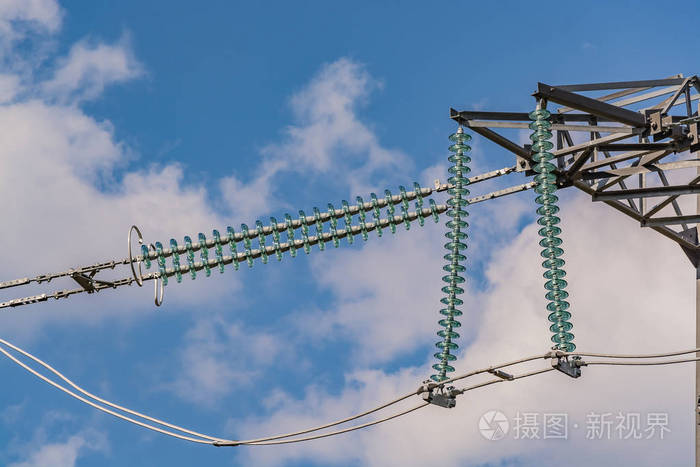insulator: (141, 188, 437, 289), (529, 111, 578, 352), (433, 132, 473, 380)
